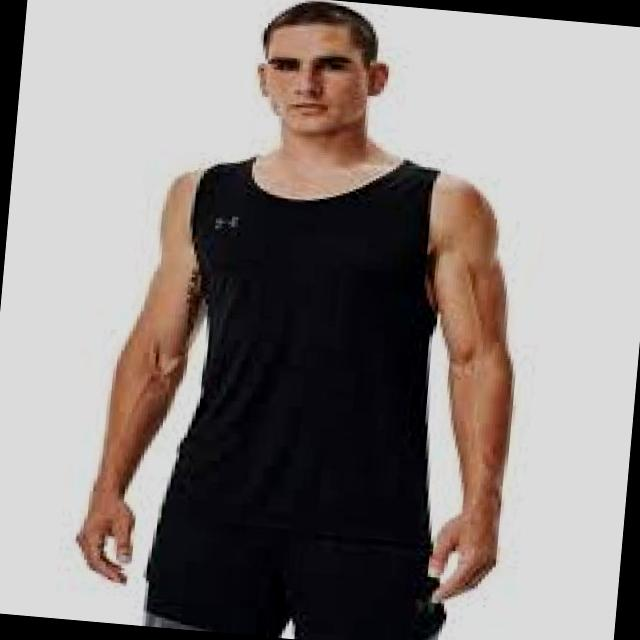no_vest: (156, 138, 470, 549)
